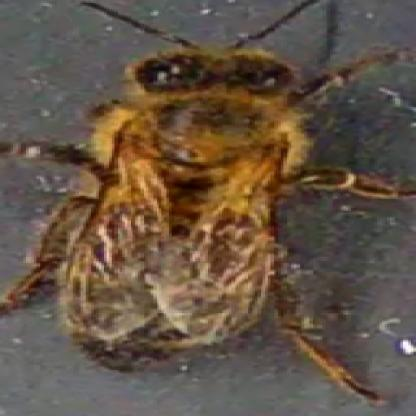bee: (28, 57, 362, 352)
